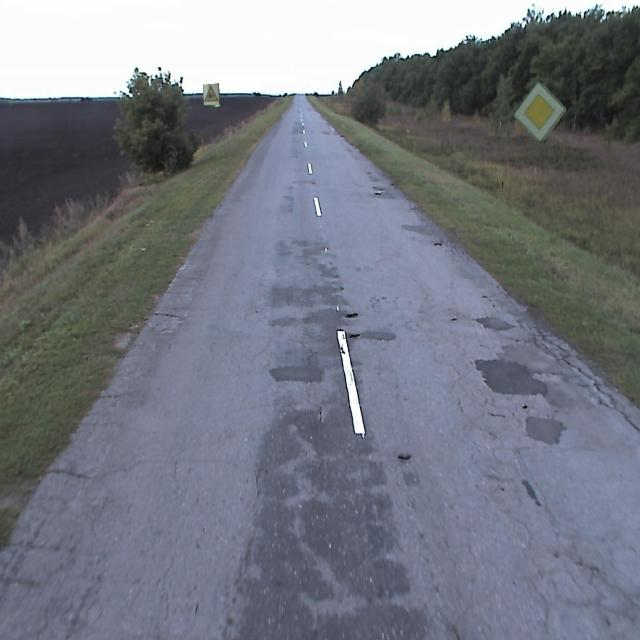road: (0, 96, 639, 639)
